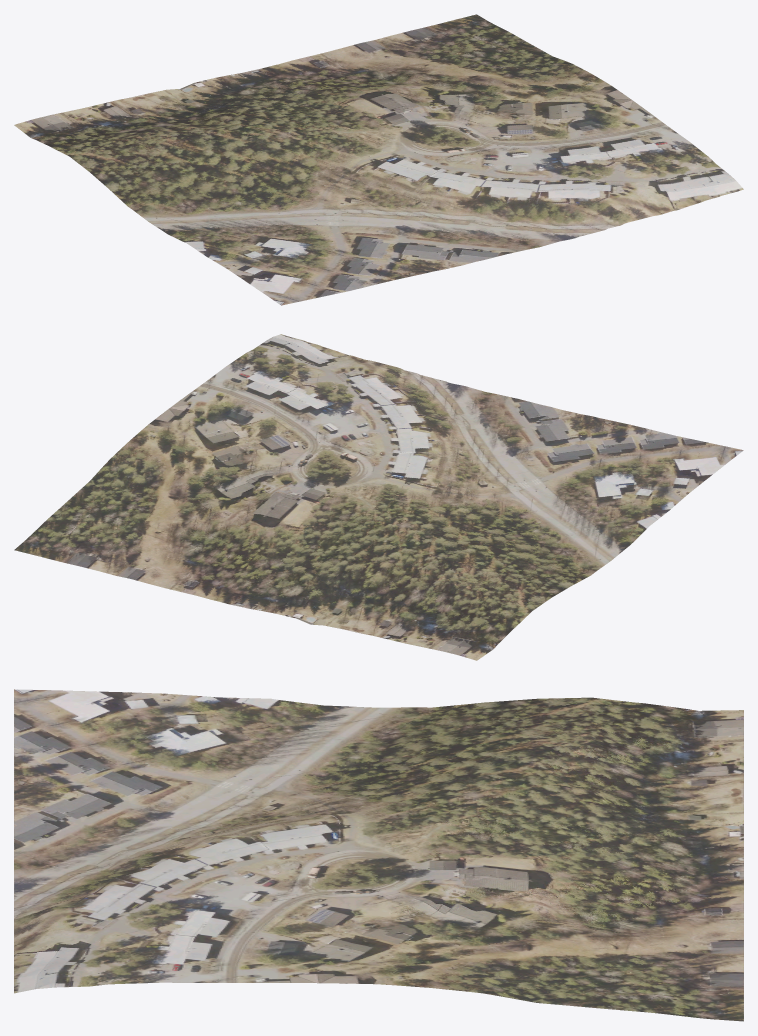
The model's file is CM_Terrain_24490663_6816927.fbx.
3 views of the same model, one above another, from view 1: azimuth 30°, elevation 25°; view 2: azimuth 150°, elevation 25°; view 3: azimuth 270°, elevation 25° (orthographic). The views are drawn at different scales.
Parts seen in each view (by area): view 1: CM_Terrain_24490663_6816927_LOD0; view 2: CM_Terrain_24490663_6816927_LOD0; view 3: CM_Terrain_24490663_6816927_LOD0.
Boxes of the visible parts, x1=… form: CM_Terrain_24490663_6816927_LOD0: x1=14, y1=14, x2=743, y2=305; CM_Terrain_24490663_6816927_LOD0: x1=14, y1=334, x2=743, y2=660; CM_Terrain_24490663_6816927_LOD0: x1=14, y1=689, x2=743, y2=1021.
Size of what is drawn, in the model's own units: 205 by 12.96 by 205.
